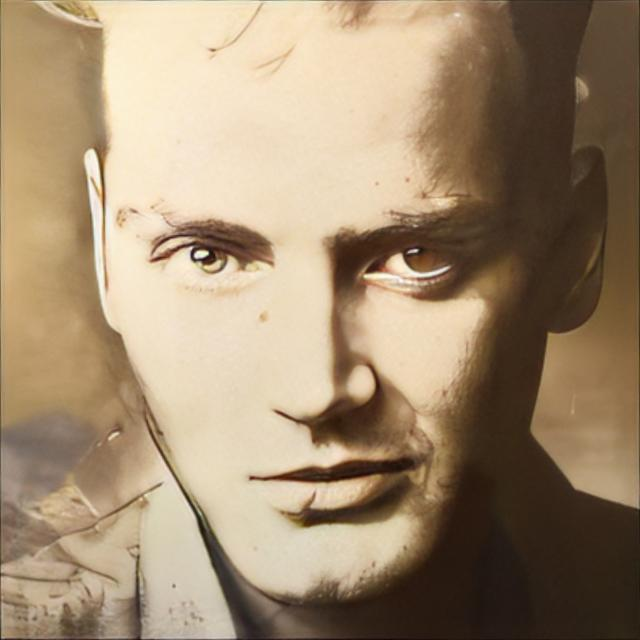content: (102, 0, 542, 610)
